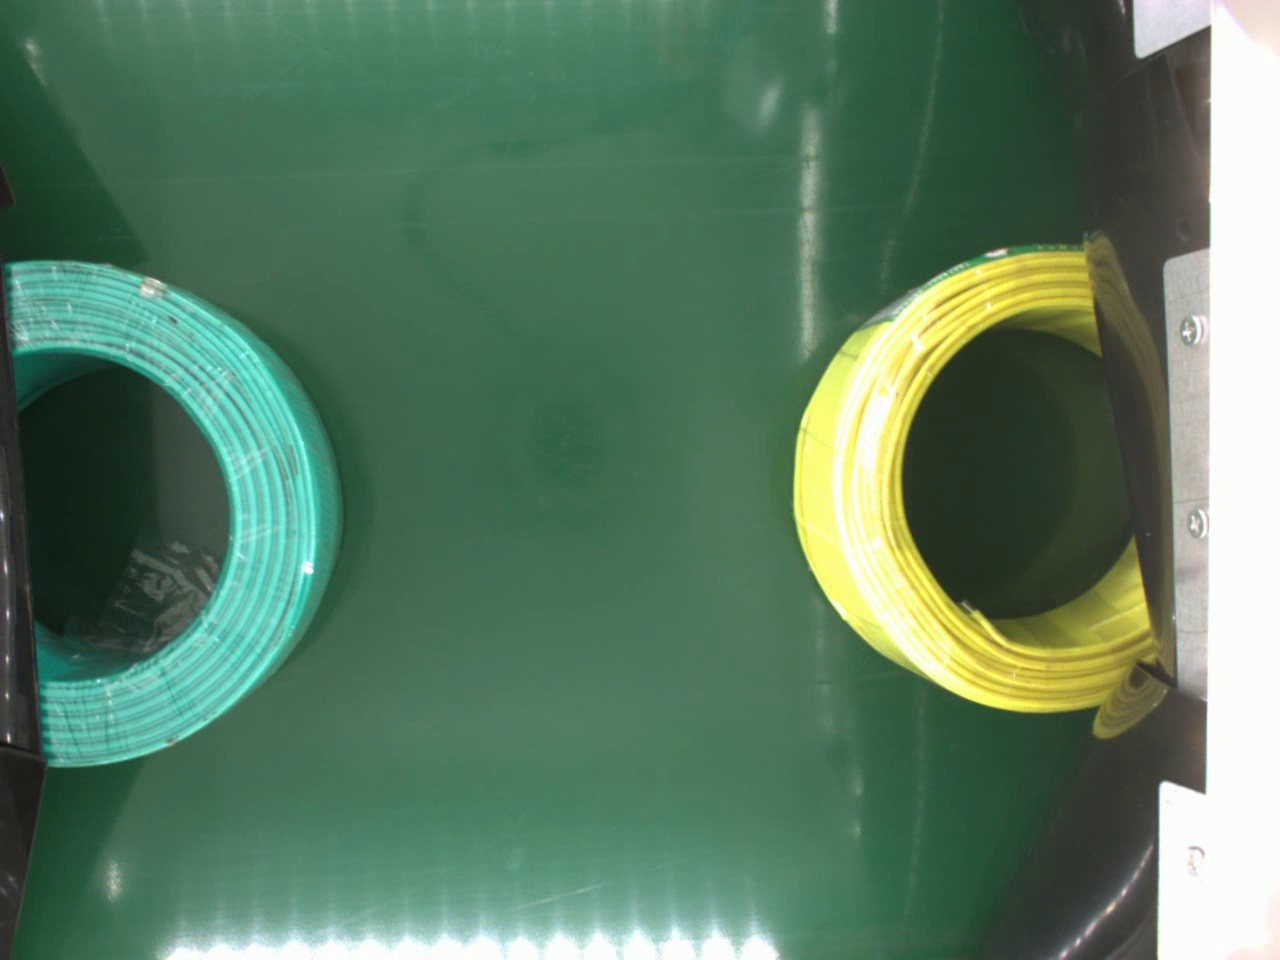green: (2, 249, 344, 767)
yellow: (789, 239, 1152, 715)
